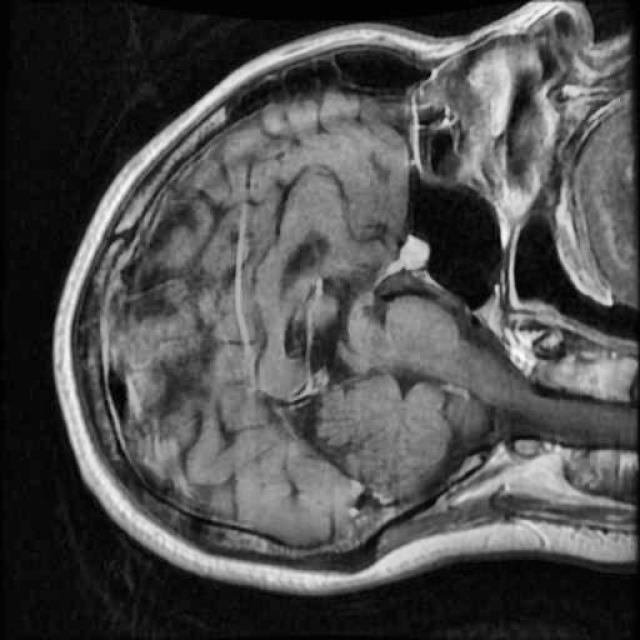Tumor: (364, 224, 445, 292)
